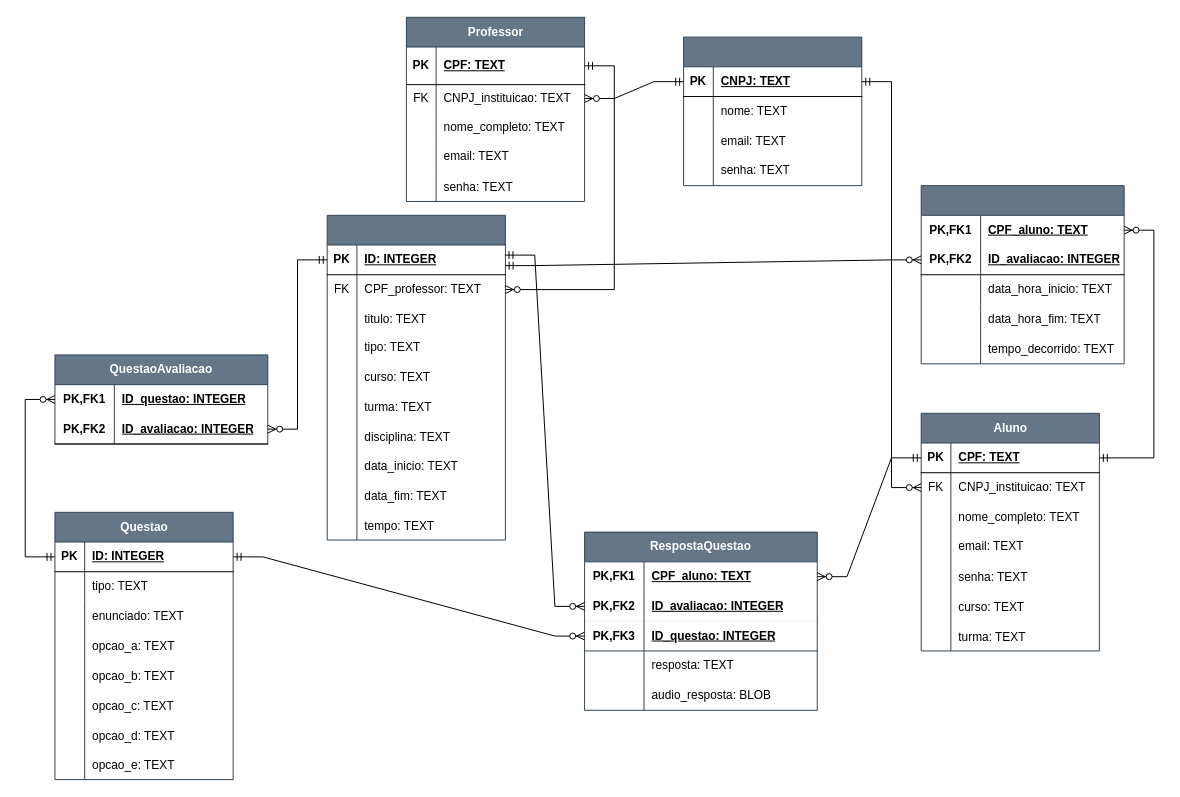
This 1180x797 diagram has some shape labels left out. The box of each missing label's shape, as (x1, y1, x2, y2) in pixels:
Avaliacao: (326, 214, 505, 540)
Instituicao: (683, 36, 862, 186)
RespostaAvaliacao: (920, 185, 1124, 364)
